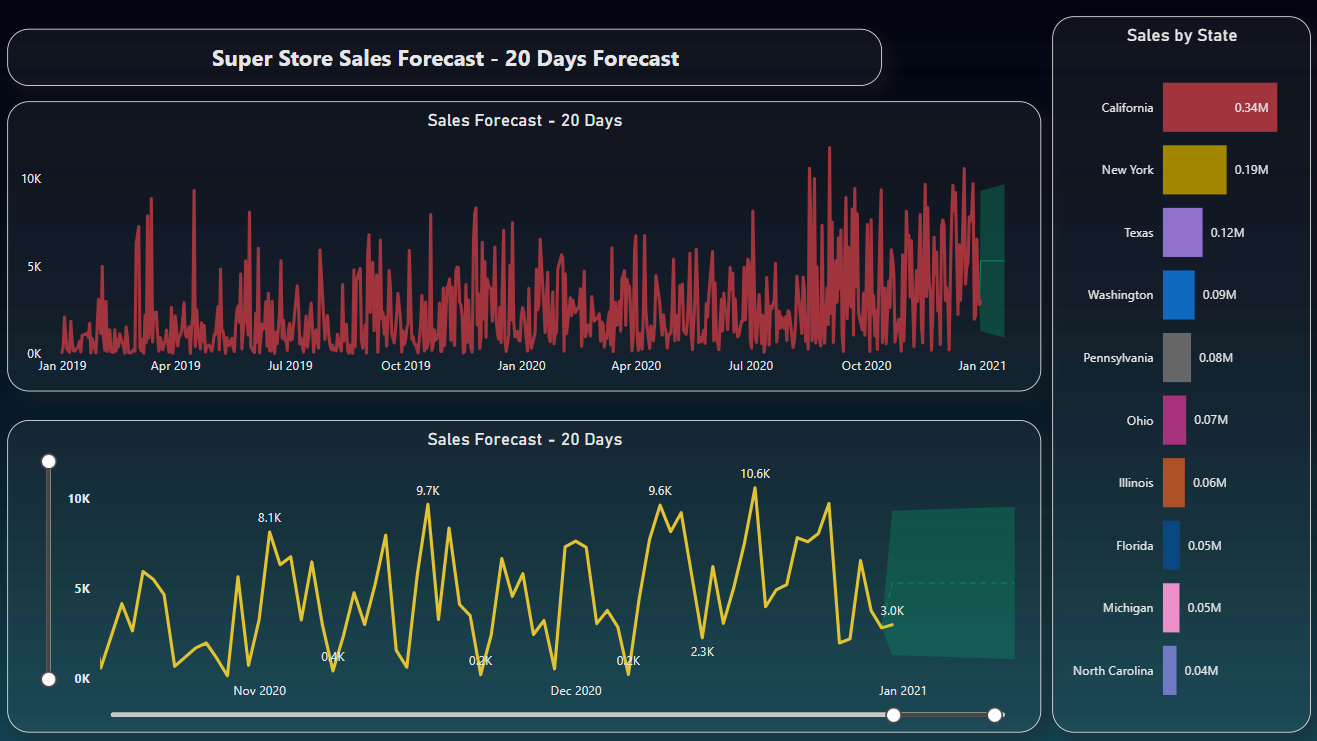

The dashboard page shown, as its layout file describes it:
{"tool":"powerbi","page":{"name":"Forecast","canvas":[1280,720],"ordinal":1},"visuals":[{"type":"lineChart","title":"Sales Forecast - 20 Days","fields":{"Y":["Sum(SuperStore_Sales_Dataset.Sales)"],"Category":["SuperStore_Sales_Dataset.Order Date"]},"box":[10.9,97.7,997.4,279.8],"z":0},{"type":"lineChart","title":"Sales Forecast - 20 Days","fields":{"Y":["Sum(SuperStore_Sales_Dataset.Sales)"],"Category":["SuperStore_Sales_Dataset.Order Date"]},"box":[10.9,405.2,997.4,301.5],"z":1000},{"type":"barChart","title":"Sales by State","fields":{"Category":["SuperStore_Sales_Dataset.State"],"Y":["Sum(SuperStore_Sales_Dataset.Sales)"]},"box":[1019.1,15.7,249.6,691.1],"z":2000},{"type":"textbox","box":[10.9,27.7,844.2,55.5],"z":3000}]}

Visuals, with their boxes in screenshot pixels (x1, y1, x2, y2), scaled from the page's 1280x720 canvas onto the 1317x741 screenshot:
"Sales Forecast - 20 Days" lineChart: bbox=[11, 101, 1037, 389]
"Sales Forecast - 20 Days" lineChart: bbox=[11, 417, 1037, 727]
"Sales by State" barChart: bbox=[1049, 16, 1305, 727]
textbox: bbox=[11, 29, 880, 86]
